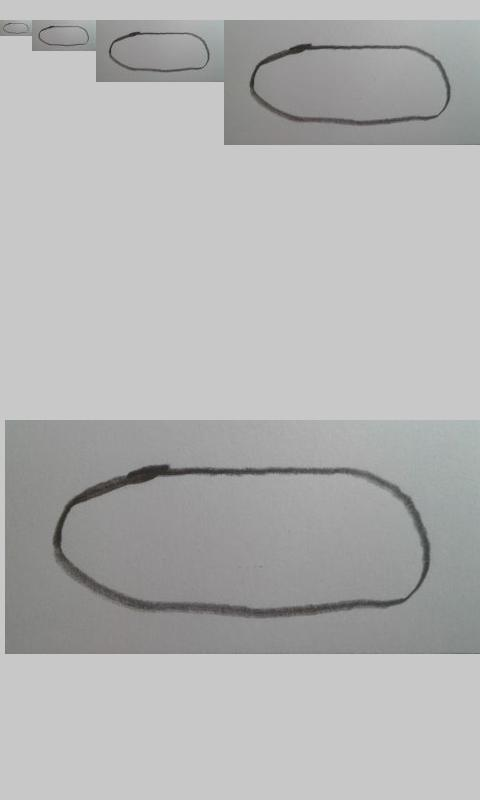chip: (52, 464, 432, 618), (248, 43, 452, 126), (108, 32, 210, 72), (38, 25, 90, 46), (2, 22, 30, 35)
